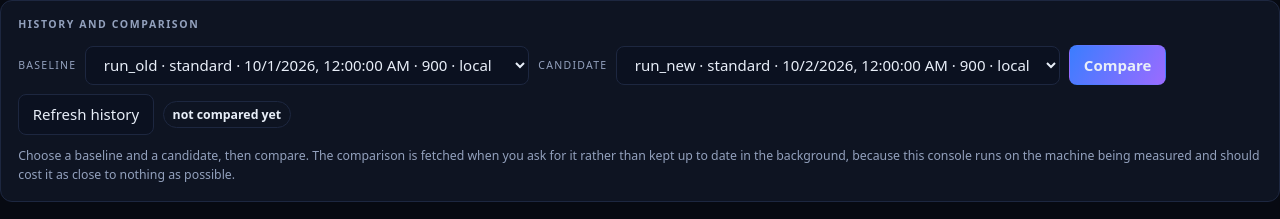
Scenario: the run picker › will not compare a run with itself
This screenshot has width=1280, height=219.
Select "run_new · standard · 10/2/2026, 12:00:00 AM · 900 · local" in the dropdown labelled "Baseline": (307, 65) [85, 46, 529, 85]
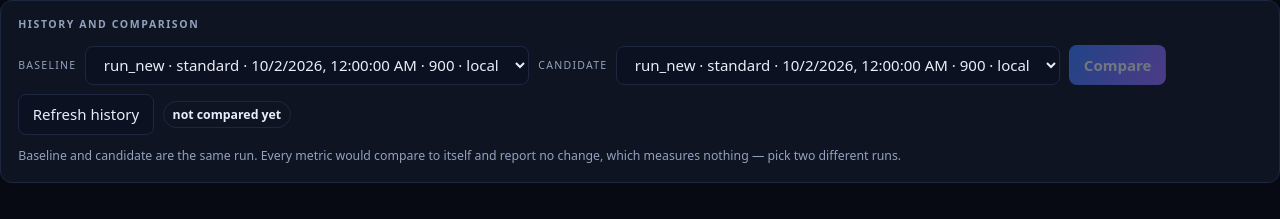
Expected: the button "Compare" is disabled, [1069, 45, 1166, 85]
Expected: the text "the same run" is shown, [18, 147, 901, 164]
